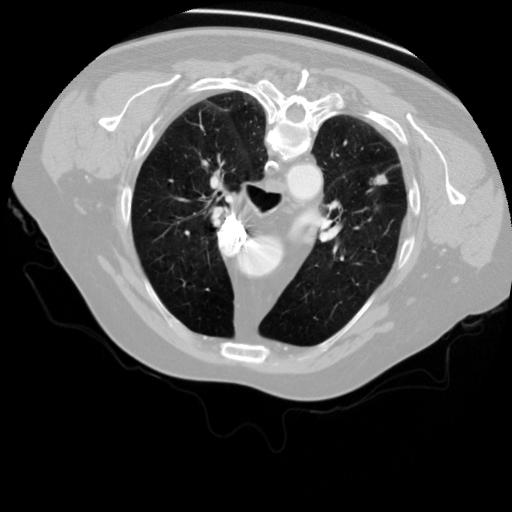nodule: (367, 170, 389, 192)
